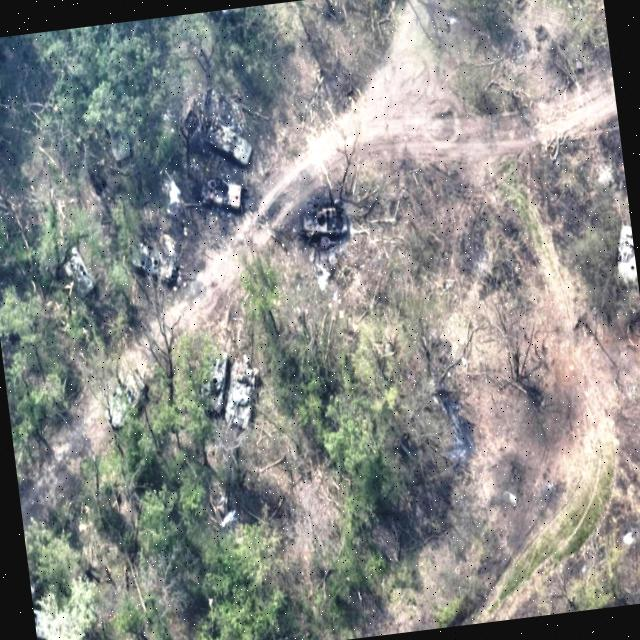AIFV: (102, 369, 154, 434), (205, 120, 259, 171), (133, 240, 182, 291), (62, 245, 101, 302), (613, 226, 639, 286), (108, 118, 132, 170)
Destroyed: (296, 203, 352, 242), (198, 173, 247, 216)
MBT: (191, 331, 242, 421), (220, 361, 269, 435)
